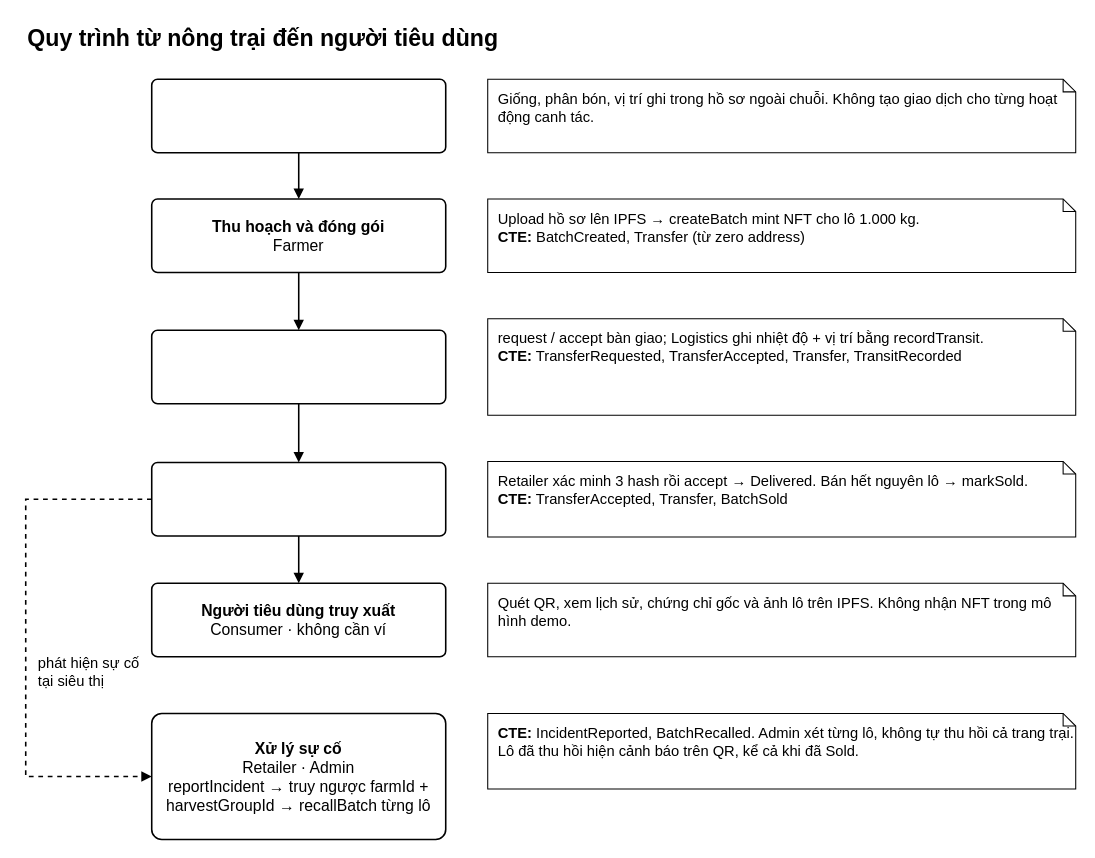
The diagram is 1095 pixels wide and 858 high, and some of its shapes have lost their labels. The centre of each missing label's shape, as x and y in pixels:
Tiếp nhận và bán lẻ Logistics → Retailer: (x=298, y=498)
Trồng trọt tại nông trại Farmer · ngoài chuỗi: (x=298, y=115)
Vận chuyển Farmer → Logistics: (x=298, y=366)
